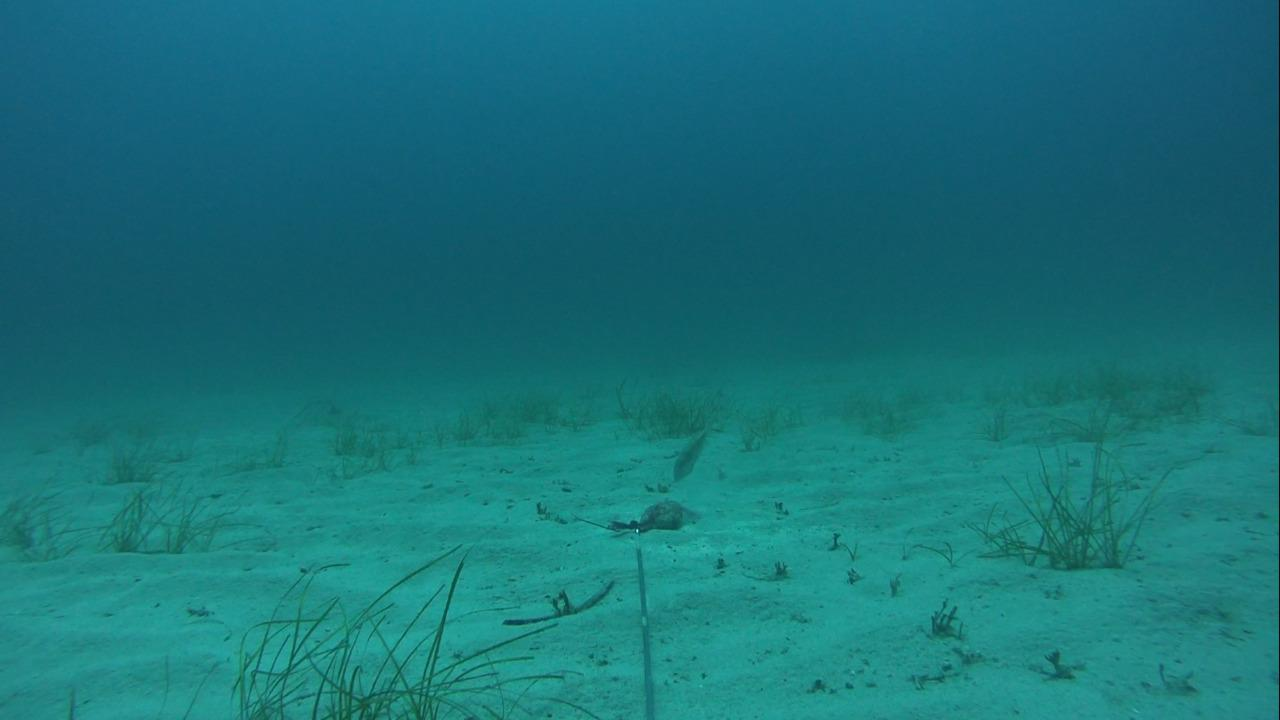raor: (667, 421, 720, 482)
